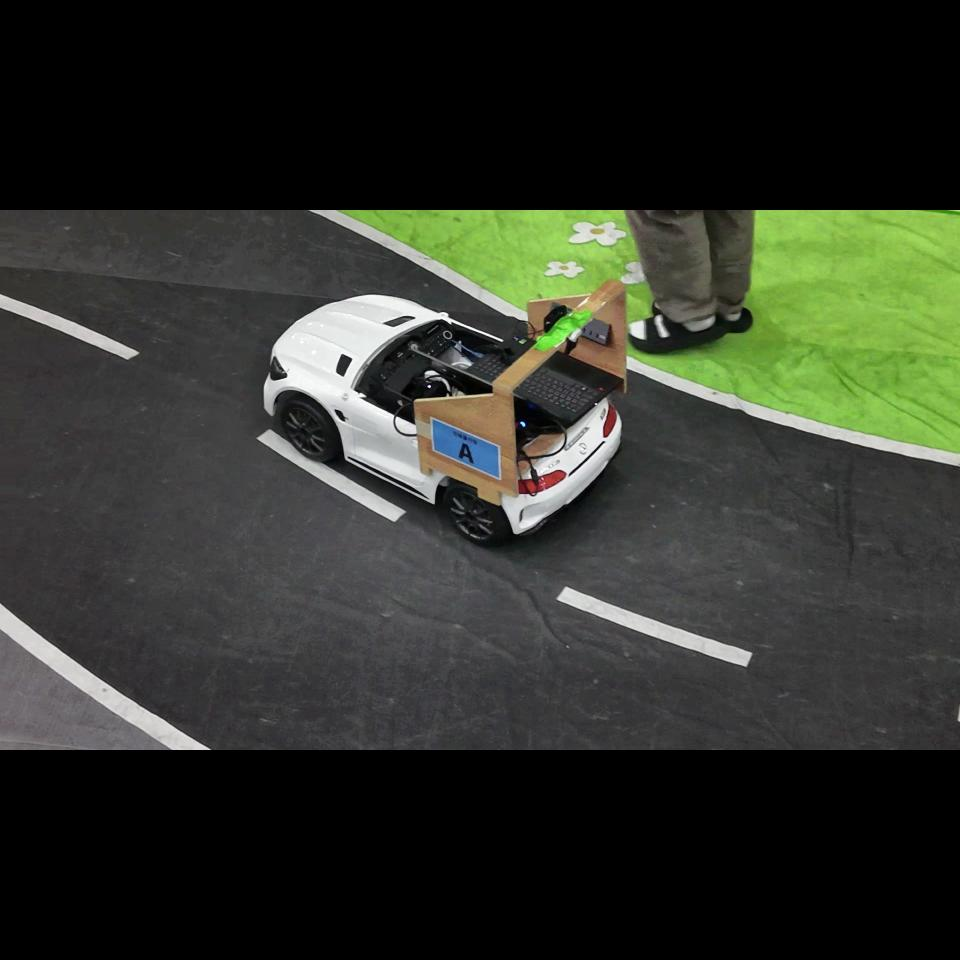broken_line: (555, 586, 753, 668), (256, 429, 407, 523), (0, 294, 141, 360)
